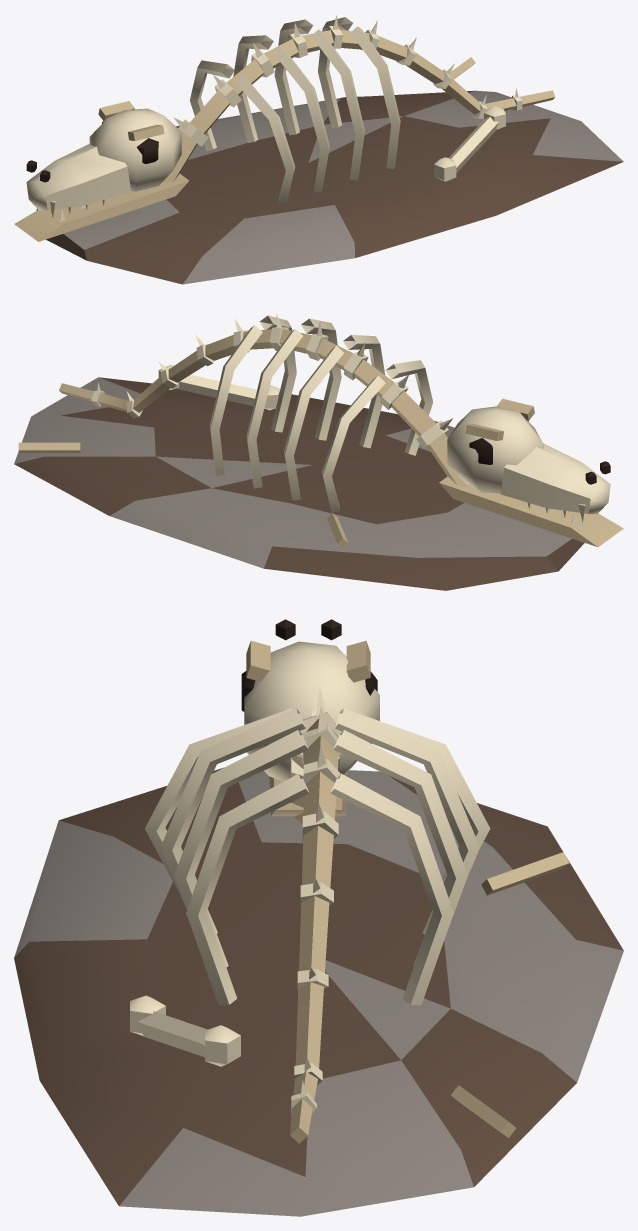
The model's file is fossil_skeleton.glb.
3 views of the same model, one above another, from view 1: azimuth 30°, elevation 25°; view 2: azimuth 150°, elevation 25°; view 3: azimuth 270°, elevation 25° (orthographic). The views are drawn at different scales.
Visible parts, largest first — view 1: fossil_skeleton; view 2: fossil_skeleton; view 3: fossil_skeleton.
Part boxes in pixels (x1,y1,x2,y2): fossil_skeleton: (14, 15, 623, 284); fossil_skeleton: (14, 314, 623, 590); fossil_skeleton: (14, 619, 623, 1216).
Size of the model in its own units: 2.61 by 0.7434 by 1.46.
